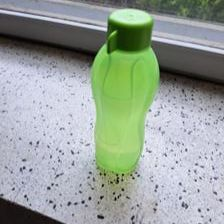bottle: (86, 7, 162, 171)
